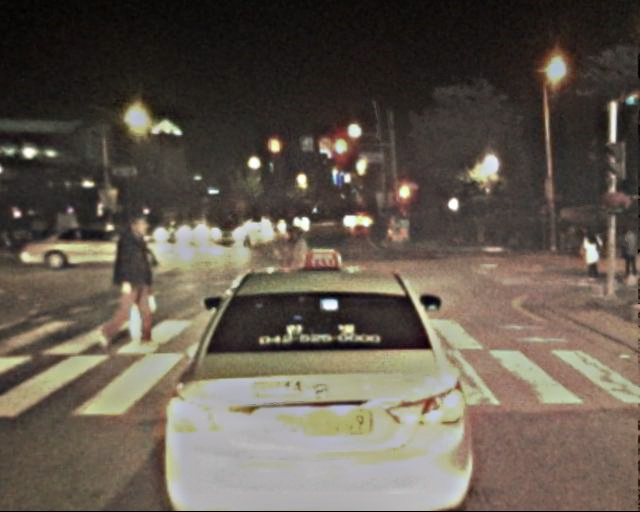person: (102, 210, 158, 347), (273, 222, 312, 317), (581, 228, 603, 282), (619, 226, 640, 280)
